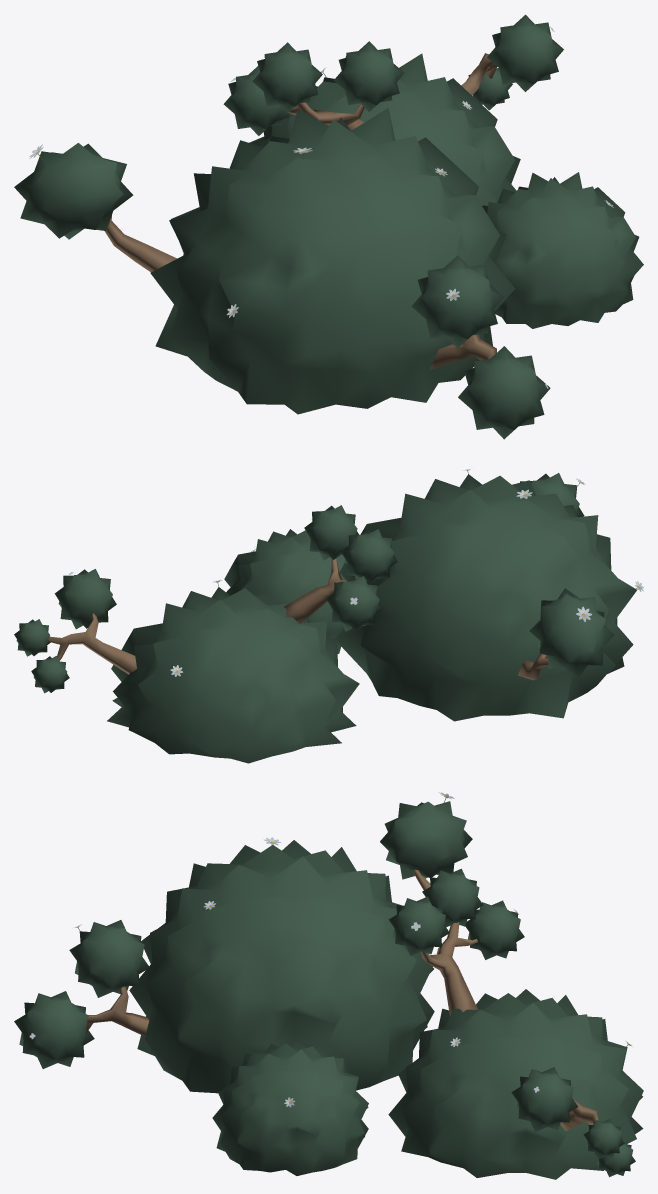
Rendered from P_Bush_07.fbx.
3 renders of one model, top to bottom at view 1: azimuth 30°, elevation 25°; view 2: azimuth 150°, elevation 25°; view 3: azimuth 270°, elevation 25°, orthographic. The views are drawn at different scales.
Visible parts, largest first — view 1: lod1; view 2: lod1; view 3: lod1.
Part boxes in pixels (<box>): lod1: <box>14,14,643,439</box>; lod1: <box>14,469,643,763</box>; lod1: <box>14,792,643,1179</box>.
Size of what is drawn, in the model's own units: 4.82 by 1.67 by 4.8.
